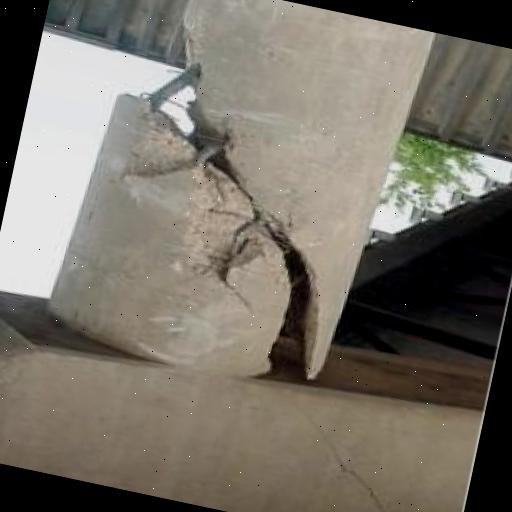spalling: (50, 14, 400, 382)
